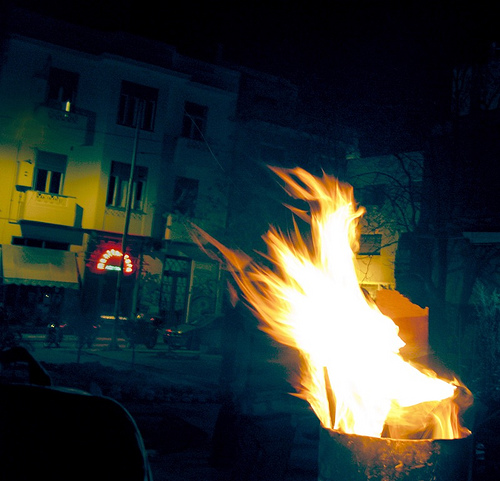fire: (234, 168, 471, 441)
